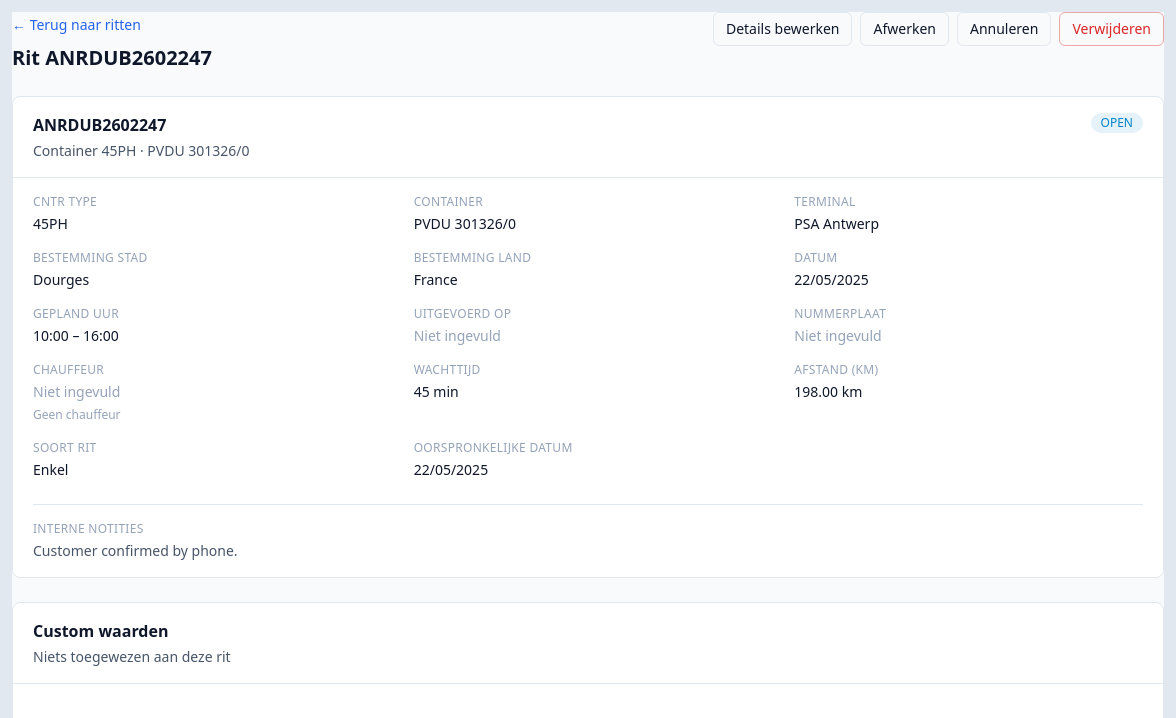
Trip management › closing a trip and its automatic pricing › does not claim pricing succeeded just because the status changed
This screenshot has width=1176, height=718.
Step 1. Click the button "Afwerken" → x=905, y=29, box x1=860 y1=12 x2=949 y2=46
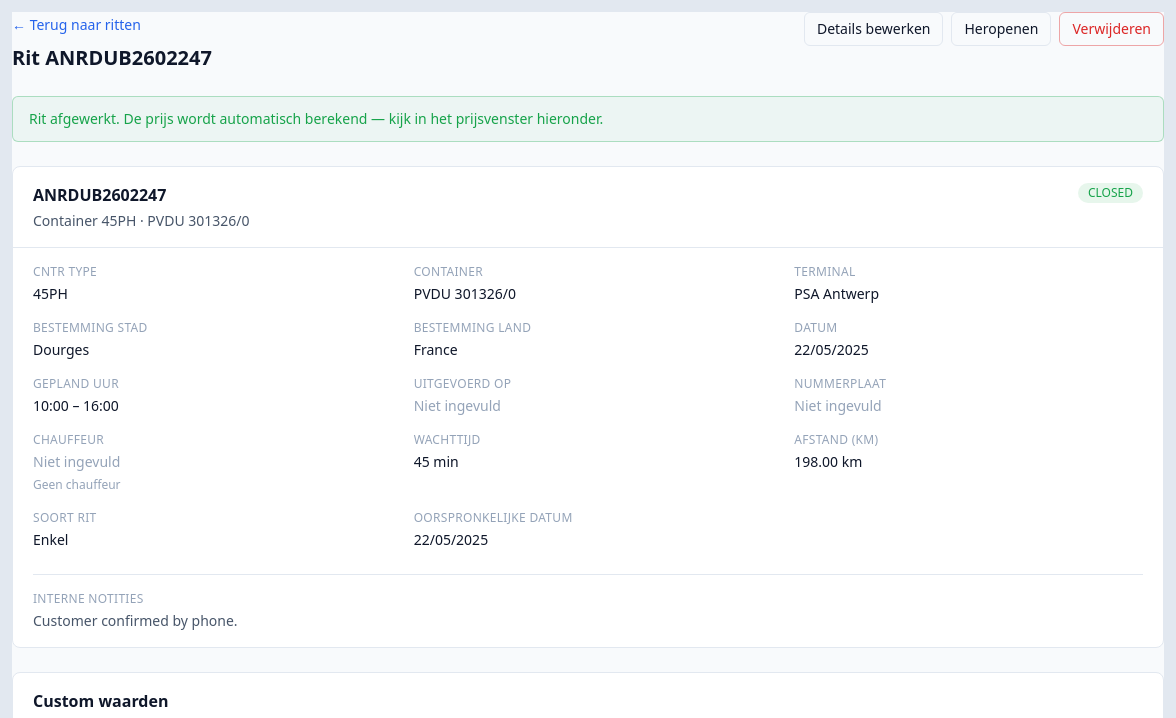
Expected: the text "Rit afgewerkt" shows "prijsvenster", x1=29 y1=109 x2=603 y2=128
